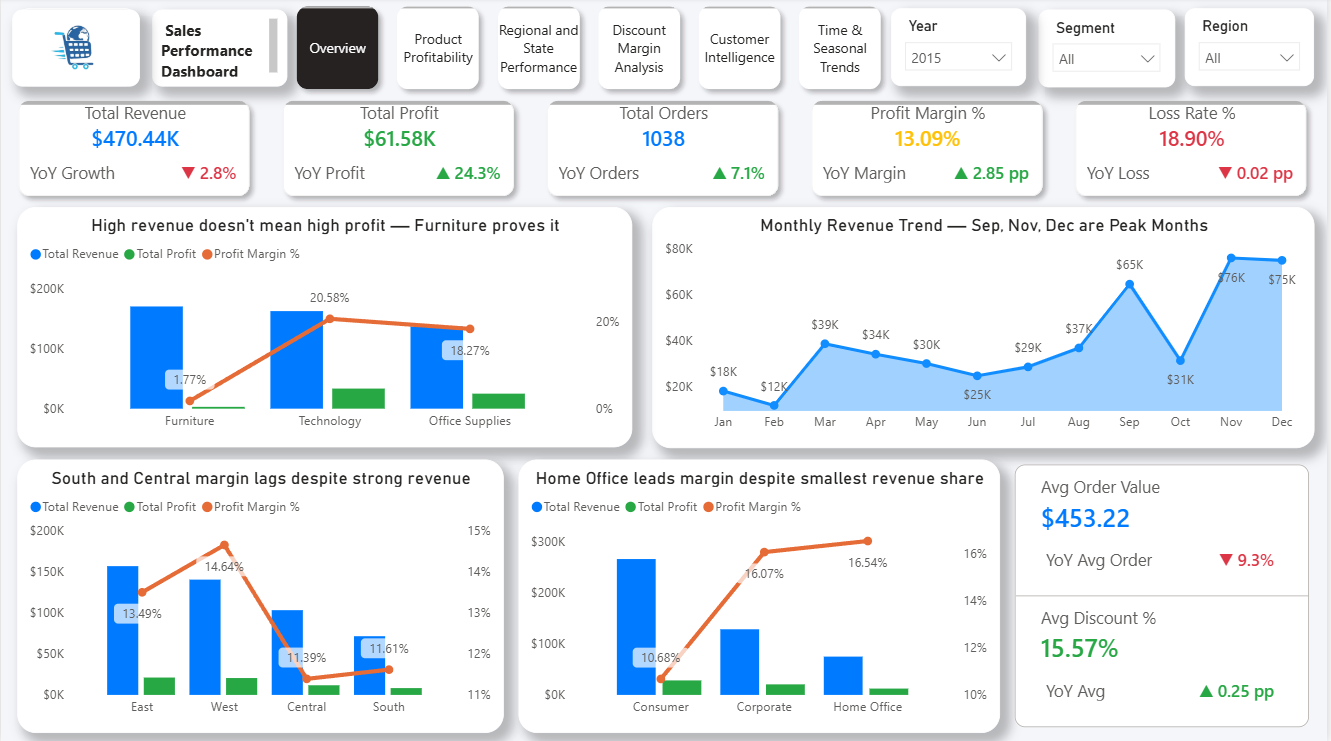

Layout of this report page (visuals, bound fields, positions):
{"tool":"powerbi","page":{"name":"Overview","canvas":[1280,720],"ordinal":0},"visuals":[{"type":"lineChart","title":"Monthly Revenue Trend — Sep, Nov, Dec are Peak Months","fields":{"Category":["superstore_clean.Order_Month_Name"],"Y":["Measures (2).Total Revenue"]},"box":[628.6,202.7,639.4,232.8],"z":0},{"type":"lineClusteredColumnComboChart","title":"High revenue doesn''t mean high profit — Furniture proves it","fields":{"Category":["superstore_clean.Category"],"Y":["Measures (2).Total Revenue","Measures (2).Total Profit"],"Y2":["Measures (2).Profit Margin %"]},"box":[15.7,202.7,593.6,231.6],"z":1000},{"type":"slicer","fields":{"Values":["superstore_clean.Segment"]},"box":[1001.7,12.3,131.7,75.5],"z":2000},{"type":"slicer","fields":{"Values":["superstore_clean.Region"]},"box":[1143.1,11,124.9,75.5],"z":3000},{"type":"slicer","title":"YE","fields":{"Values":["superstore_clean.Order_Year"]},"box":[859,11,130.4,75.5],"z":4000},{"type":"textbox","box":[145.5,12.3,130.4,74.1],"z":5000},{"type":"pageNavigator","box":[275.8,0,583.2,98.8],"z":6000},{"type":"textbox","box":[11,12.3,123.5,74.1],"z":7000},{"type":"image","box":[16.5,11,112.5,75.5],"z":8000},{"type":"cardVisual","fields":{"Data":["Measures (2).Total Revenue","Measures (2).Total Profit","Measures (2).Total Orders","Measures (2).Profit Margin %","Measures (2).Loss Rate %"]},"box":[0,83.7,1280.3,126.2],"z":9000},{"type":"lineClusteredColumnComboChart","title":"South and Central margin lags  despite strong revenue","fields":{"Category":["superstore_clean.Region"],"Y":["Measures (2).Total Revenue","Measures (2).Total Profit"],"Y2":["Measures (2).Profit Margin %"]},"box":[15.7,446.4,469.3,264.2],"z":11000},{"type":"lineClusteredColumnComboChart","title":"Home Office leads margin despite smallest revenue share","fields":{"Category":["superstore_clean.Segment"],"Y":["Measures (2).Total Revenue","Measures (2).Total Profit"],"Y2":["Measures (2).Profit Margin %"]},"box":[499.5,446.4,464.5,264.2],"z":12000},{"type":"cardVisual","fields":{"Data":["Measures (2).Avg Order Value","Measures (2).Avg Discount %"]},"box":[973.6,446.4,294.4,264.2],"z":13001}]}

Visuals, with their boxes in screenshot pixels (x1, y1, x2, y2), scaled from the page's 1280x720 canvas onto the 1331x741 screenshot:
"Monthly Revenue Trend — Sep, Nov, Dec are Peak Months" lineChart: 654:209:1319:448
"High revenue doesn''t mean high profit — Furniture proves it" lineClusteredColumnComboChart: 16:209:634:447
slicer - superstore_clean.Segment: 1042:13:1179:90
slicer - superstore_clean.Region: 1189:11:1319:89
"YE" slicer: 893:11:1029:89
textbox: 151:13:287:89
pageNavigator: 287:0:893:102
textbox: 11:13:140:89
image: 17:11:134:89
cardVisual - Measures (2).Total Revenue x Measures (2).Total Profit: 0:86:1330:216
"South and Central margin lags  despite strong revenue" lineClusteredColumnComboChart: 16:459:504:731
"Home Office leads margin despite smallest revenue share" lineClusteredColumnComboChart: 519:459:1002:731
cardVisual - Measures (2).Avg Order Value x Measures (2).Avg Discount %: 1012:459:1319:731
